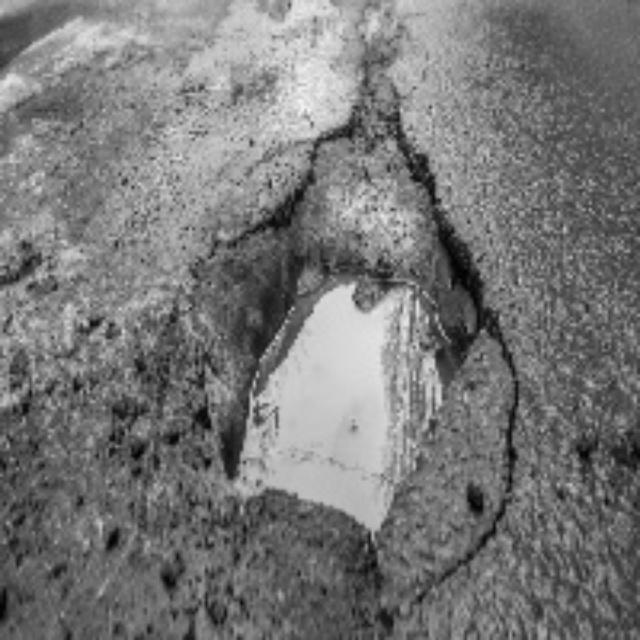Pothole: (191, 164, 560, 572)
